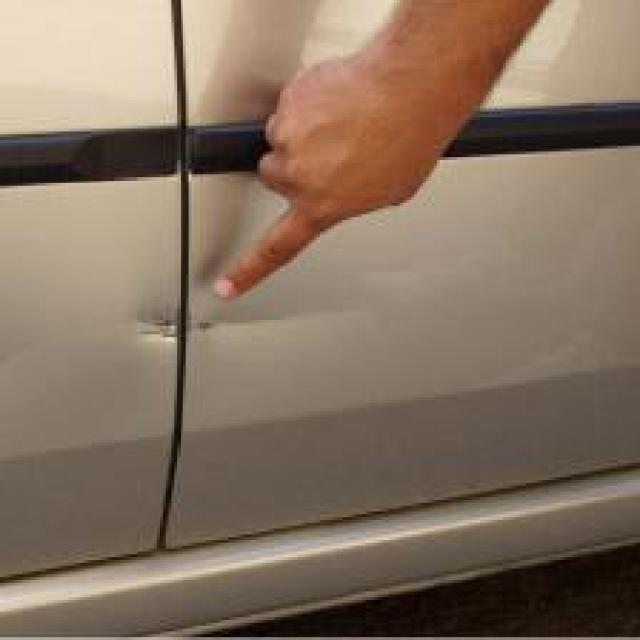damaged: (140, 302, 309, 358)
